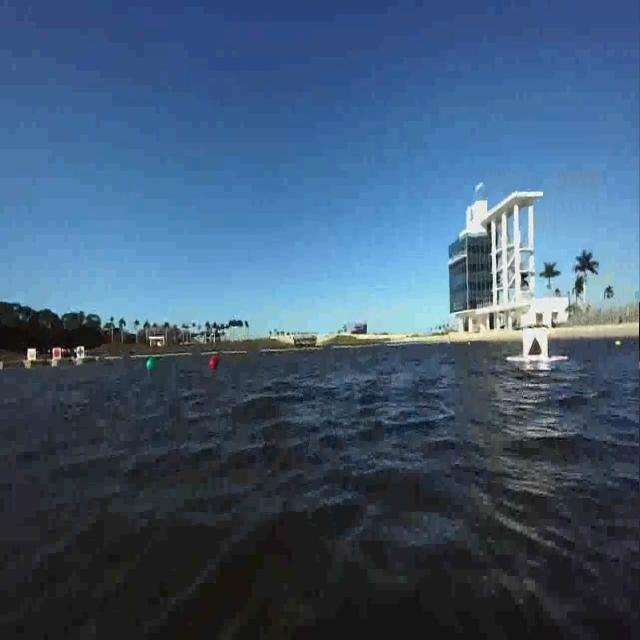green-buoy: (147, 358, 156, 370)
red-buoy: (209, 354, 220, 368)
